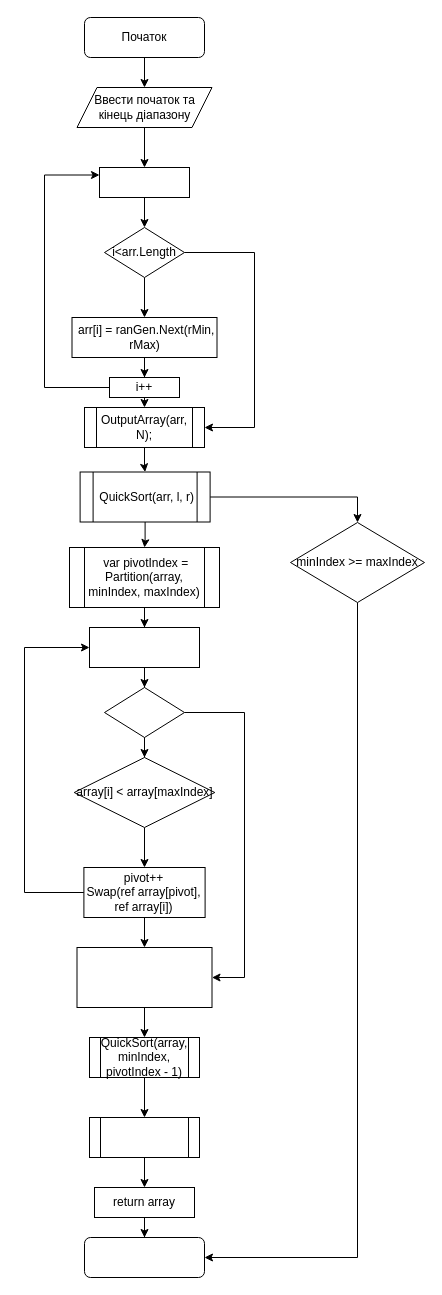
Some shapes in this 442 by 1295 pixel diagram are drawn without their labels. The shapes that lost their labels are listed below. From the top down, each one's box as (x1, y1, x2, y2) in pixels, then its label:
(98, 166, 190, 198): i=0
(88, 626, 200, 668): i=minIndex
(104, 686, 184, 738): i<maxIndex
(76, 946, 212, 1008): pivot++ Swap(ref array[pivot], ref array[maxIndex] return pivot
(88, 1116, 200, 1158): QuickSort(array, pivotIndex + 1, maxIndex)
(84, 1236, 204, 1278): Кінець
